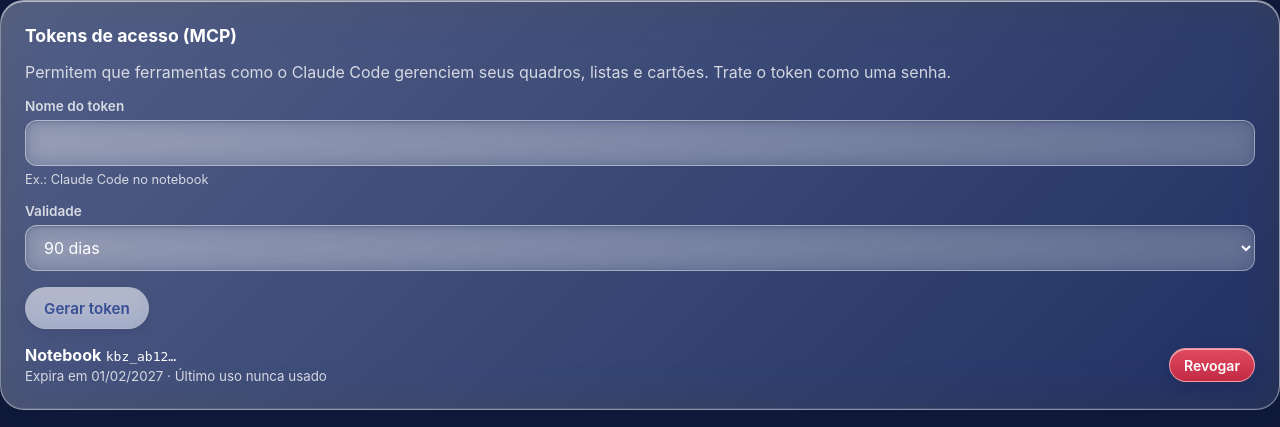
Scenario: personal access tokens section › lists tokens without exposing secrets and revokes one
The width and height of the screenshot is (1280, 427).
Expected: the text "Notebook" is shown, 25,345 -> 101,365
Expected: the text "kbz_ab12…" is shown, 106,349 -> 176,364
Click the button "Revogar" at x=1212, y=365, box 1169,348 -> 1255,382
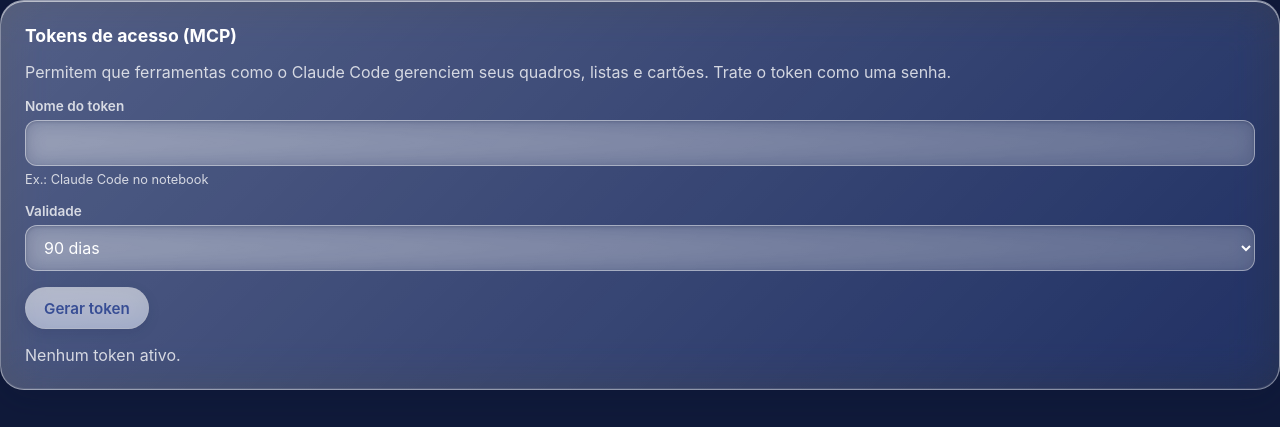
Expected: the list item "Nenhum token ativo." is shown, 25,345 -> 181,365
